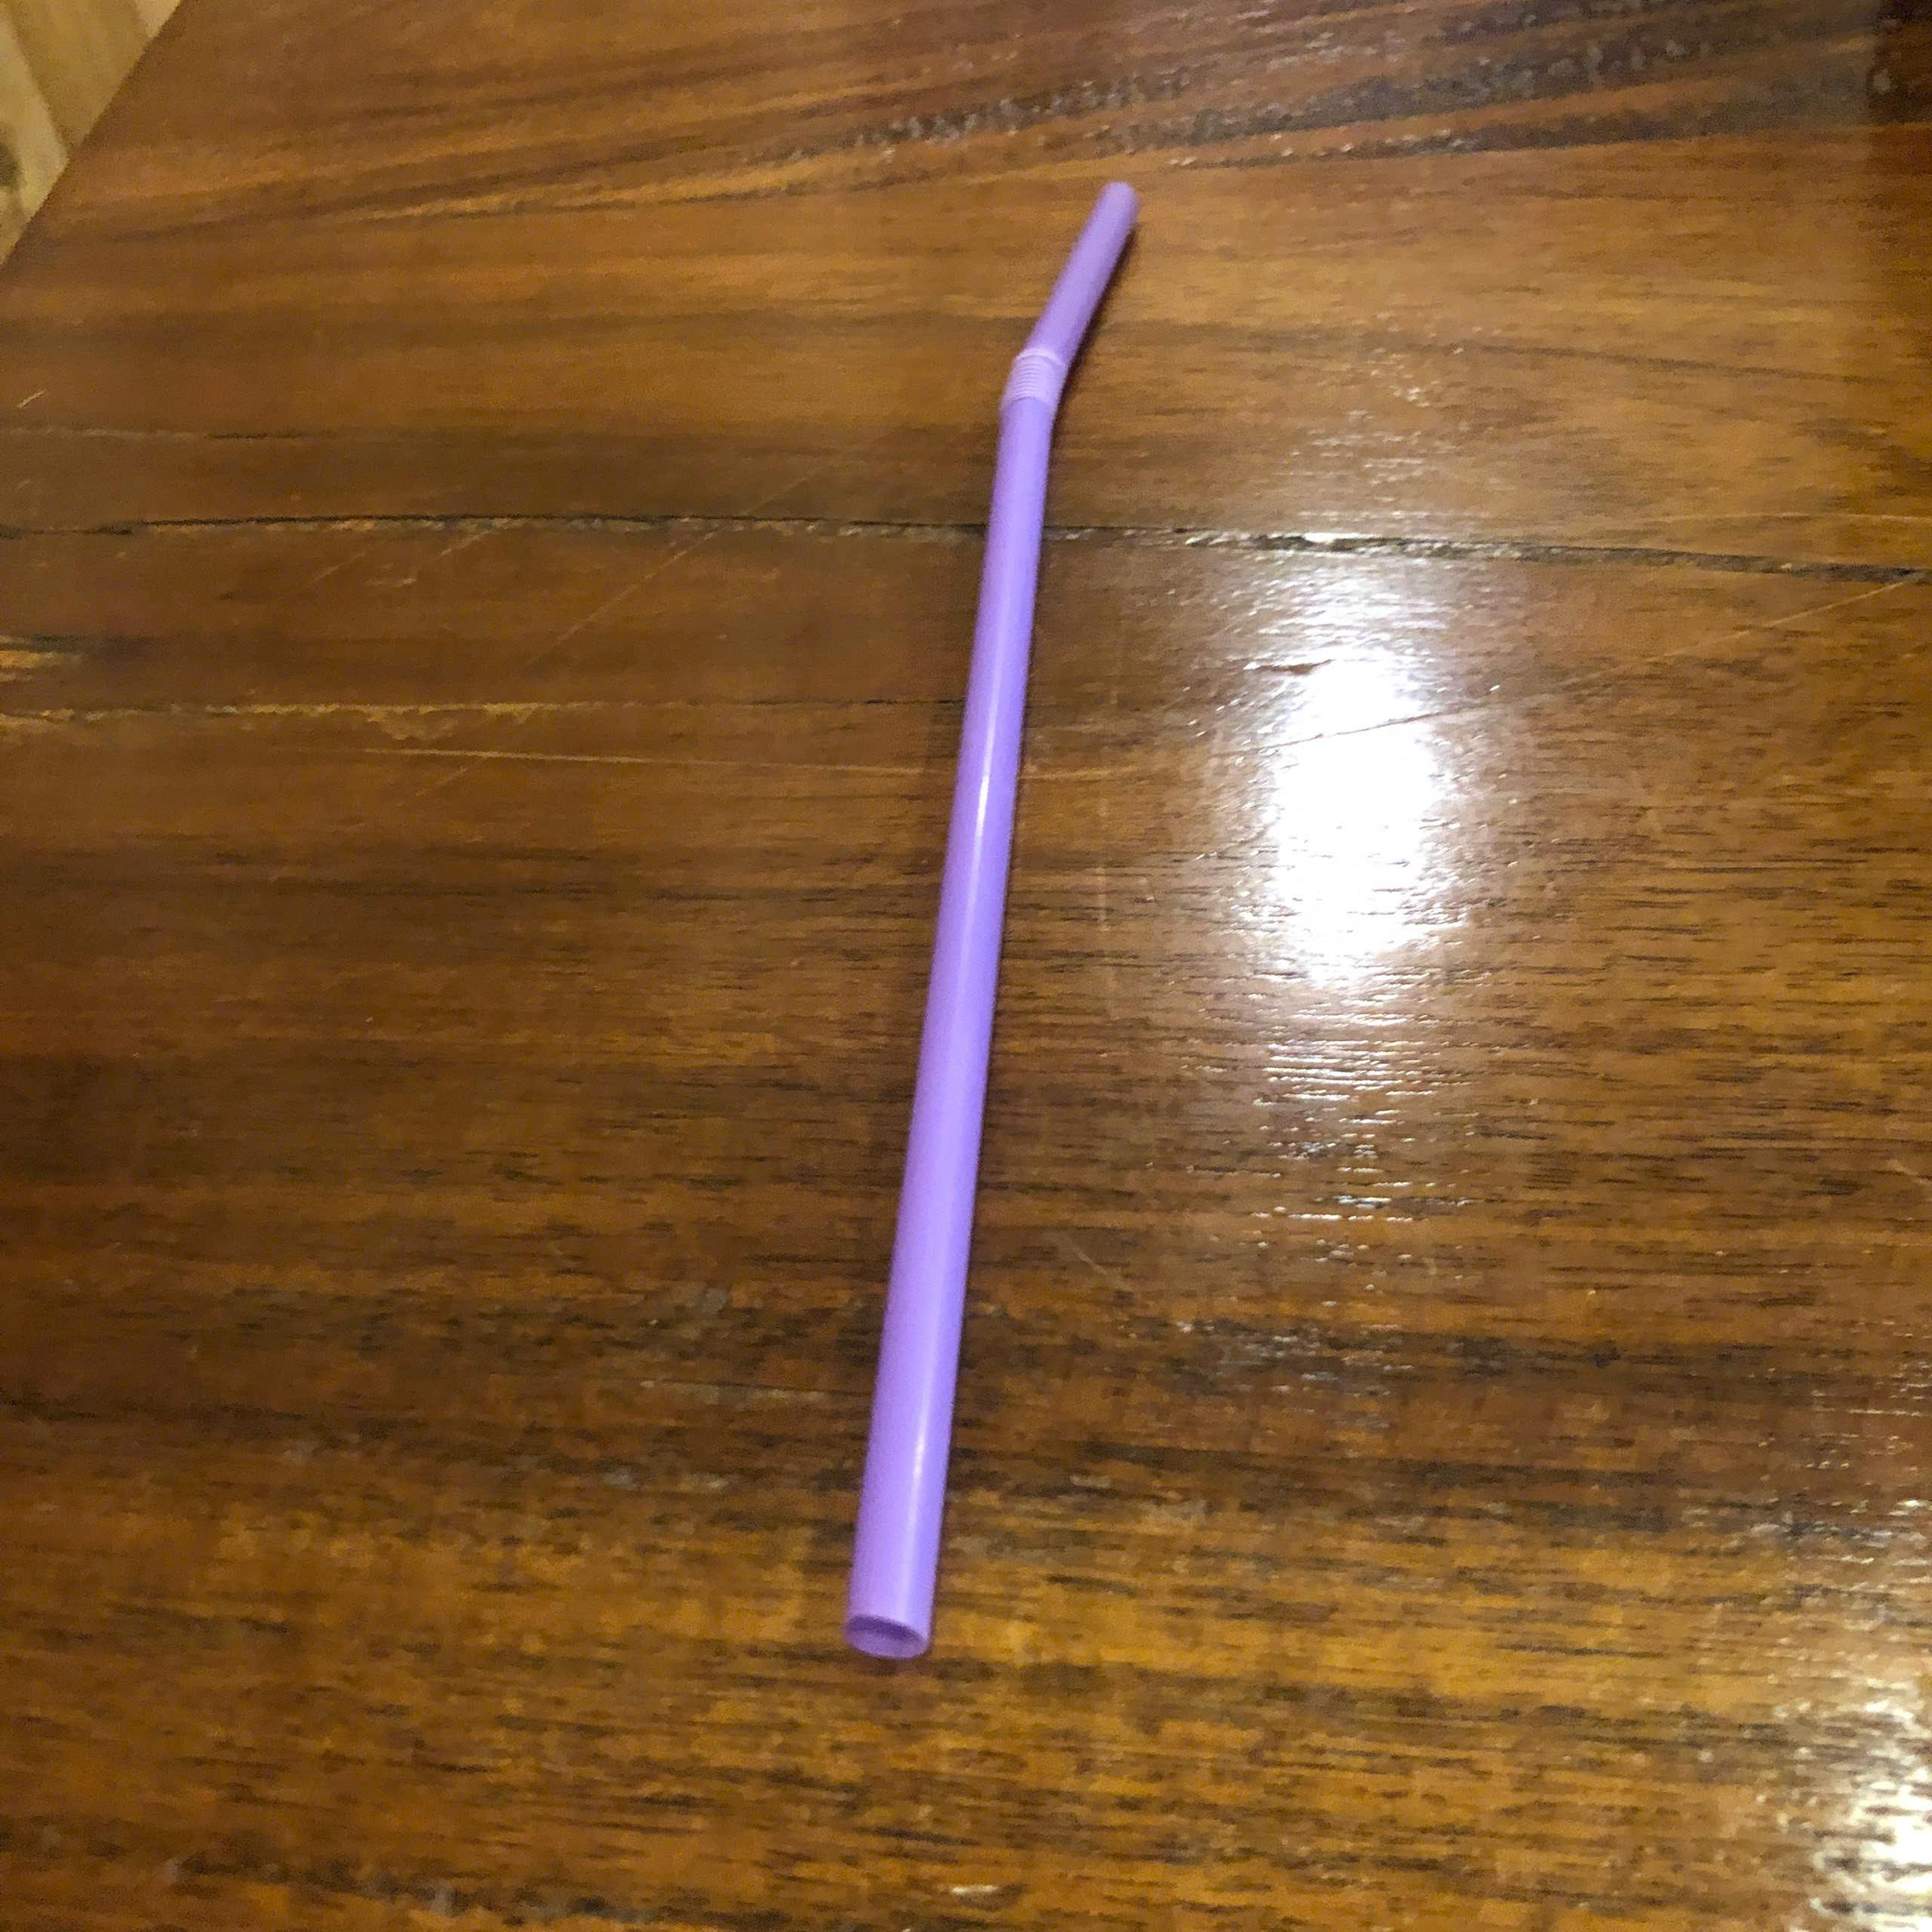Vo co: (837, 166, 1150, 1656)
